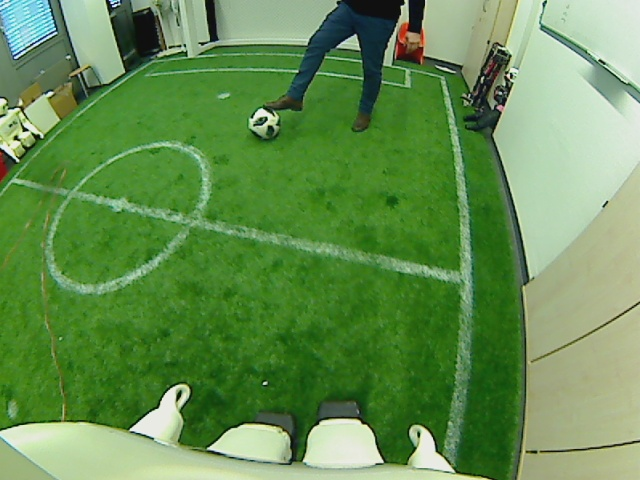ball: (247, 105, 280, 141)
